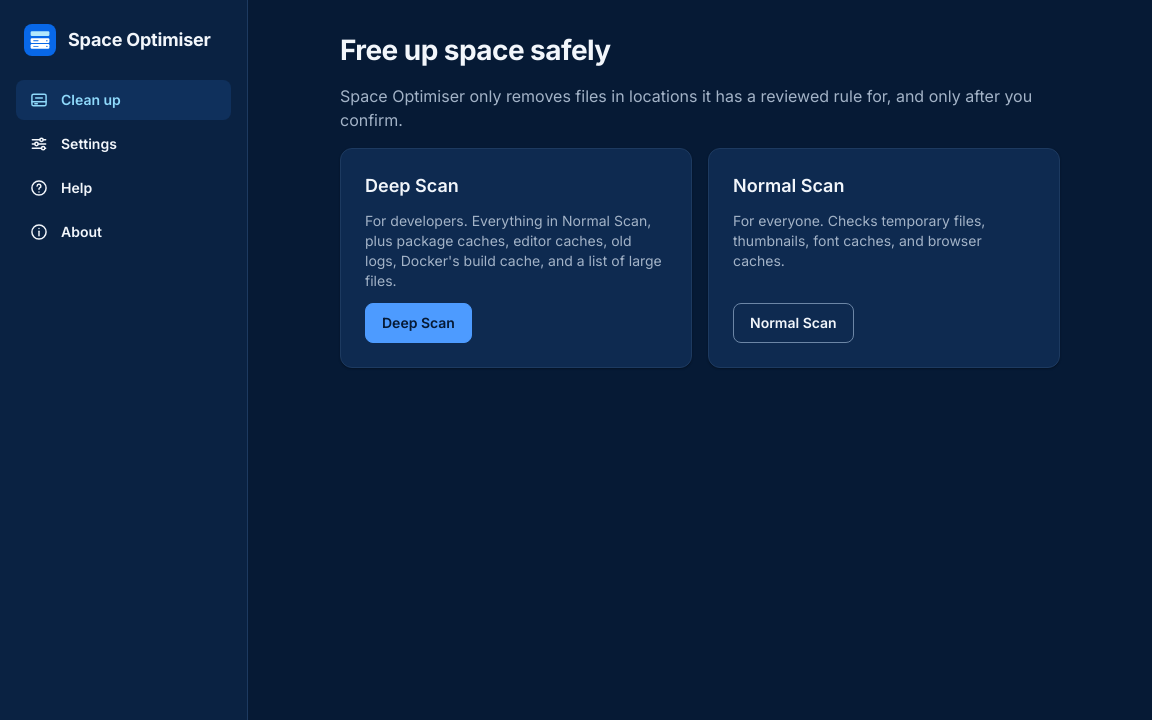
Test: results › an info row has no checkbox
Click the button "Normal Scan" at (793, 323), box [733,303,854,343]
(page scrolled)
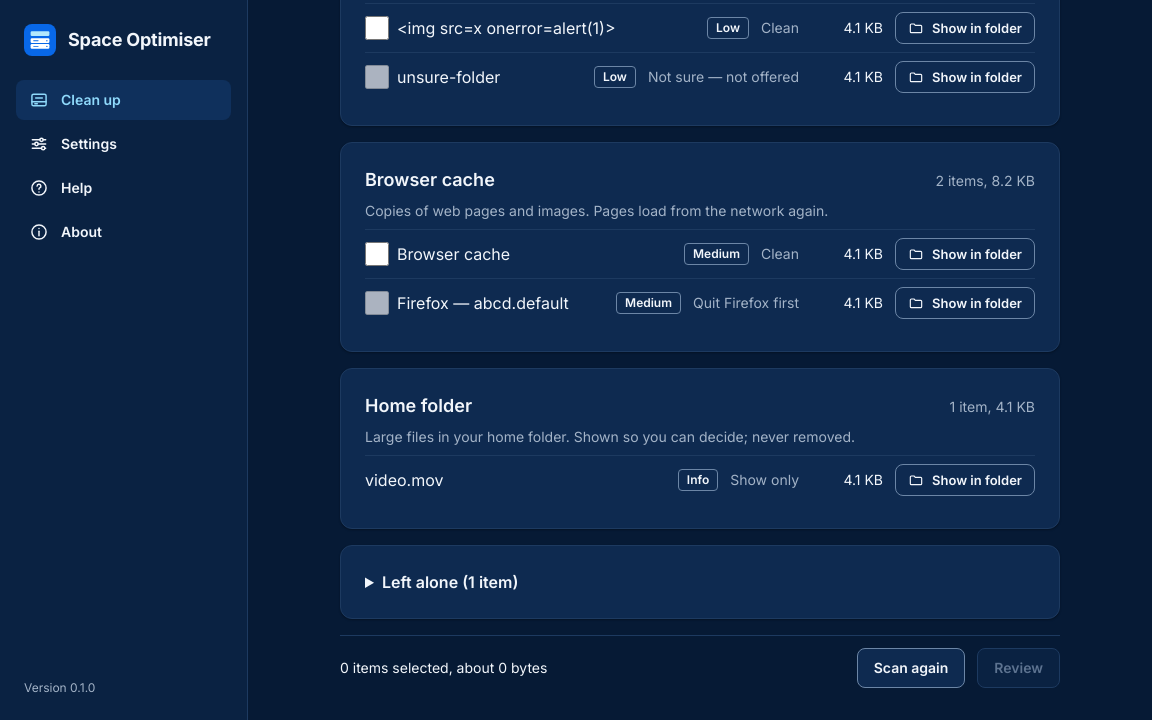
Now the text "video.mov" is shown, box [365,470,444,490]
